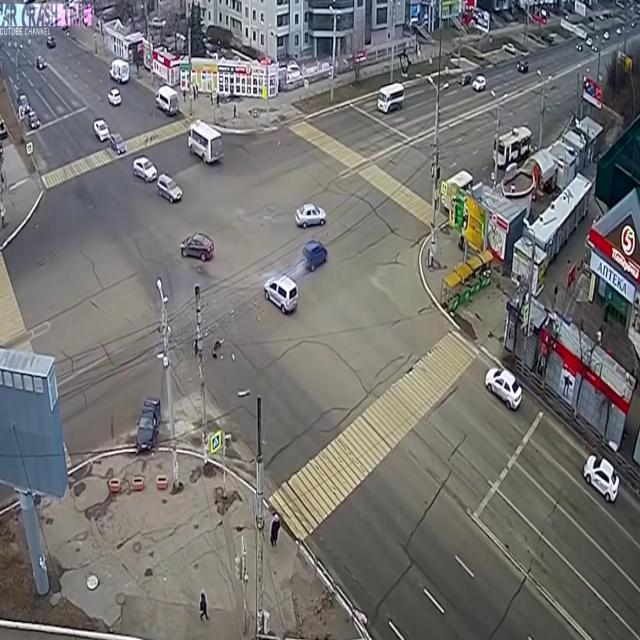accident: (256, 234, 332, 322), (127, 374, 168, 466)
non_accident: (130, 150, 186, 210), (91, 110, 130, 160)
